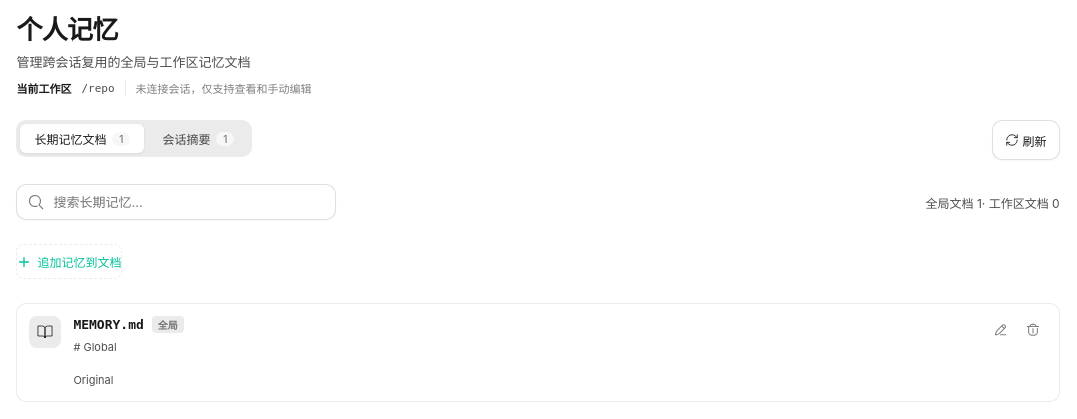
Test: ResourcesPanel › 没有活动会话时明确说明维护能力受限
expect the text "MEMORY.md" is shown: met, box [73, 317, 144, 332]
expect the element named "当前记忆上下文" shows "未连接会话": met, box [136, 82, 312, 96]
Click the tab "会话摘要 1" at (198, 139), box [148, 124, 248, 153]
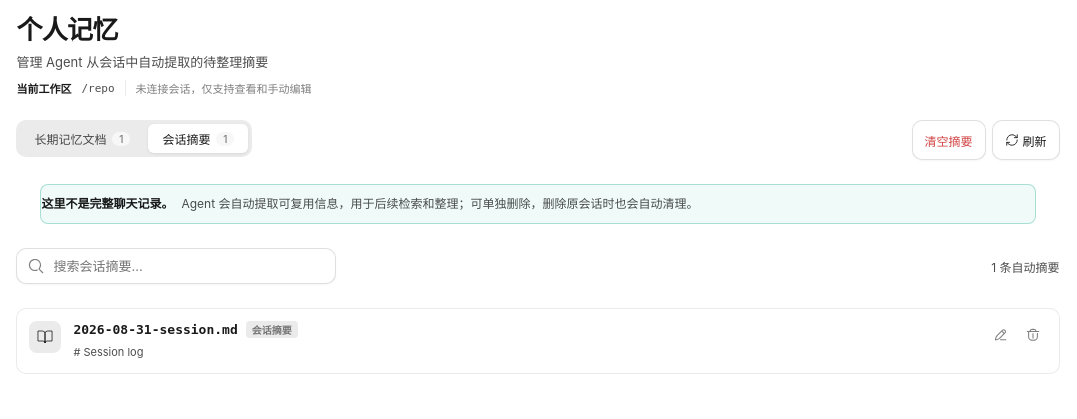
expect the button "清空摘要" is shown: met, box [912, 120, 986, 160]
